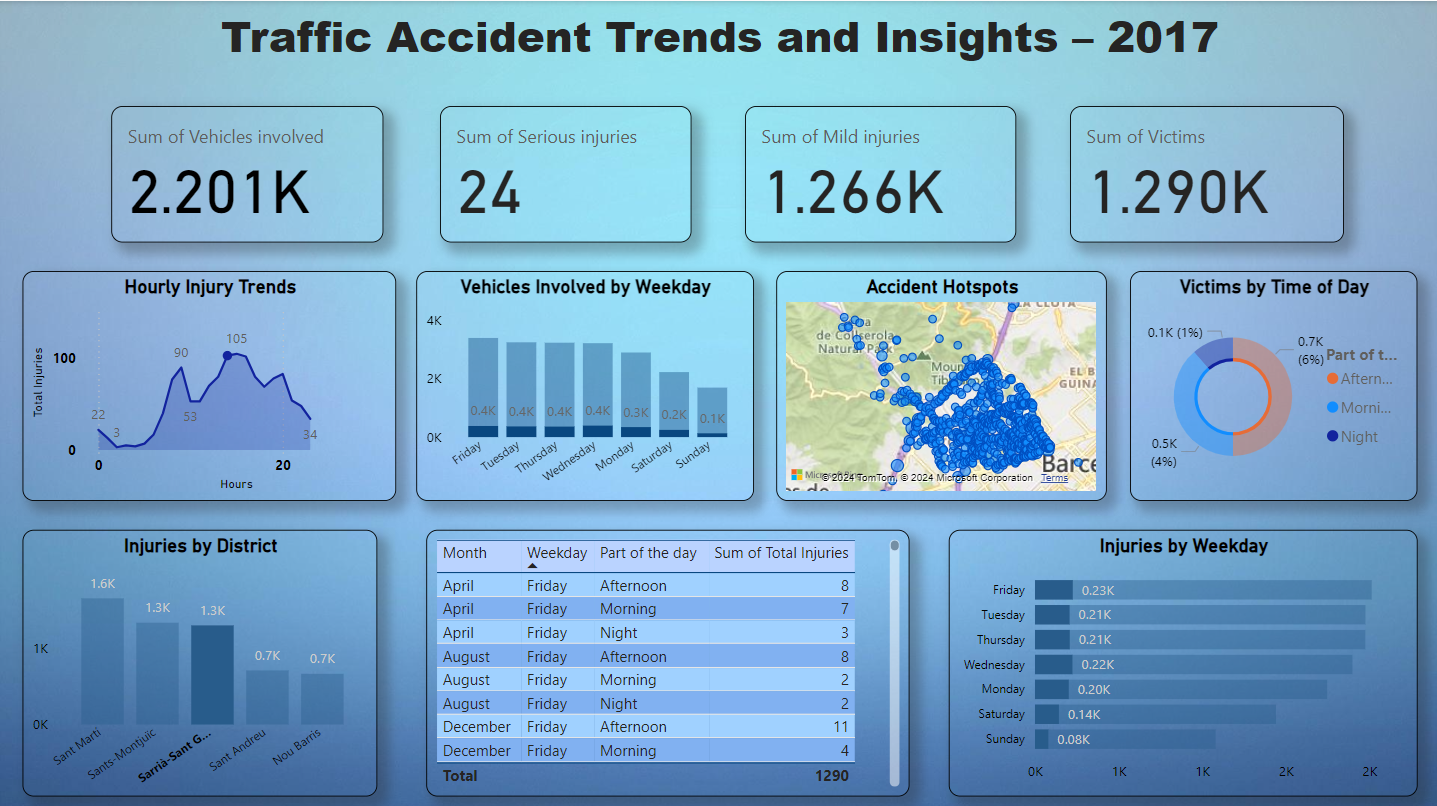

The page's visual inventory and layout, read from the dashboard file:
{"tool":"powerbi","page":{"name":"Page 1","canvas":[1280,720],"ordinal":0},"visuals":[{"type":"cardVisual","fields":{"Data":["Sum(accidents_2017.Victims)"]},"box":[950.7,94.1,243.7,121.9],"z":0},{"type":"cardVisual","fields":{"Data":["Sum(accidents_2017.Serious injuries)"]},"box":[361.9,94.1,223.2,121.9],"z":1000},{"type":"clusteredColumnChart","title":"Injuries by District","fields":{"Category":["accidents_2017.District Name"],"Y":["Sum(accidents_2017.Total Injuries)"]},"box":[20.5,470.5,316.1,237.7],"z":2000},{"type":"clusteredBarChart","title":"Injuries by Weekday","fields":{"Category":["accidents_2017.Weekday"],"Y":["Sum(accidents_2017.Total Injuries)"]},"box":[844.5,470.5,417.4,237.7],"z":3000},{"type":"cardVisual","fields":{"Data":["Sum(accidents_2017.Vehicles involved)"]},"box":[65.1,94.1,243.7,121.9],"z":4000},{"type":"cardVisual","fields":{"Data":["Sum(accidents_2017.Mild injuries)"]},"box":[640.6,94.1,241.3,121.9],"z":5000},{"type":"tableEx","fields":{"Values":["accidents_2017.Month","accidents_2017.Weekday","accidents_2017.Part of the day","Sum(accidents_2017.Total Injuries)"]},"box":[380,470.5,430.7,237.7],"z":6000},{"type":"lineChart","title":"Hourly Injury Trends","fields":{"Category":["accidents_2017.Hour"],"Y":["Sum(accidents_2017.Total Injuries)"]},"box":[20.5,240.1,333,205.1],"z":7000},{"type":"map","title":"Accident Hotspots","fields":{"X":["accidents_2017.Longitude"],"Y":["accidents_2017.Latitude"],"Size":["Count(accidents_2017.Total Injuries)"]},"box":[691.3,240.1,294.4,205.1],"z":8000},{"type":"clusteredColumnChart","title":"Vehicles Involved by Weekday","fields":{"Category":["accidents_2017.Weekday"],"Y":["Sum(accidents_2017.Vehicles involved)"]},"box":[370.4,240.1,300.4,205.1],"z":9000},{"type":"donutChart","title":"Victims by Time of Day","fields":{"Category":["accidents_2017.Part of the day"],"Y":["Sum(accidents_2017.Victims)"]},"box":[1006.2,240.1,255.8,205.1],"z":10000},{"type":"textbox","box":[0,0,1280,66.4],"z":11000}]}

Visuals, with their boxes in screenshot pixels (x1, y1, x2, y2), scaled from the page's 1280x720 canvas onto the 1437x806 screenshot:
cardVisual - Sum(accidents_2017.Victims): left=1067, top=105, right=1341, bottom=242
cardVisual - Sum(accidents_2017.Serious injuries): left=406, top=105, right=657, bottom=242
"Injuries by District" clusteredColumnChart: left=23, top=527, right=378, bottom=793
"Injuries by Weekday" clusteredBarChart: left=948, top=527, right=1417, bottom=793
cardVisual - Sum(accidents_2017.Vehicles involved): left=73, top=105, right=347, bottom=242
cardVisual - Sum(accidents_2017.Mild injuries): left=719, top=105, right=990, bottom=242
tableEx - accidents_2017.Month x accidents_2017.Weekday: left=427, top=527, right=910, bottom=793
"Hourly Injury Trends" lineChart: left=23, top=269, right=397, bottom=498
"Accident Hotspots" map: left=776, top=269, right=1107, bottom=498
"Vehicles Involved by Weekday" clusteredColumnChart: left=416, top=269, right=753, bottom=498
"Victims by Time of Day" donutChart: left=1130, top=269, right=1417, bottom=498
textbox: left=0, top=0, right=1436, bottom=74
